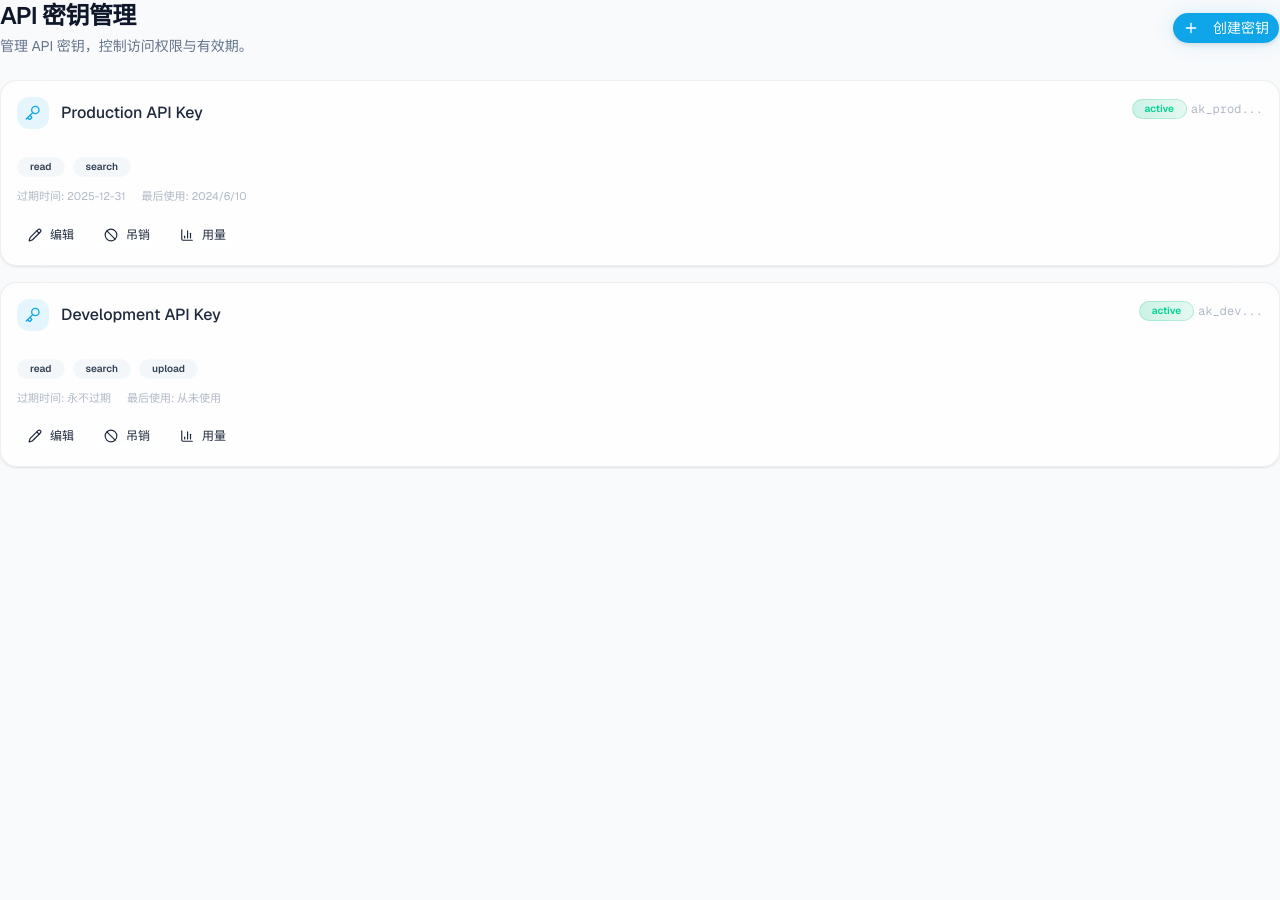
Scenario: ApiKeysPage › API Keys Page - Update › clicking edit opens edit modal
Expected: the text "Production API Key" is shown, [61,101,203,125]
Click the button "编辑" below "2025-12-31" at (51, 235), box [17,221,85,249]
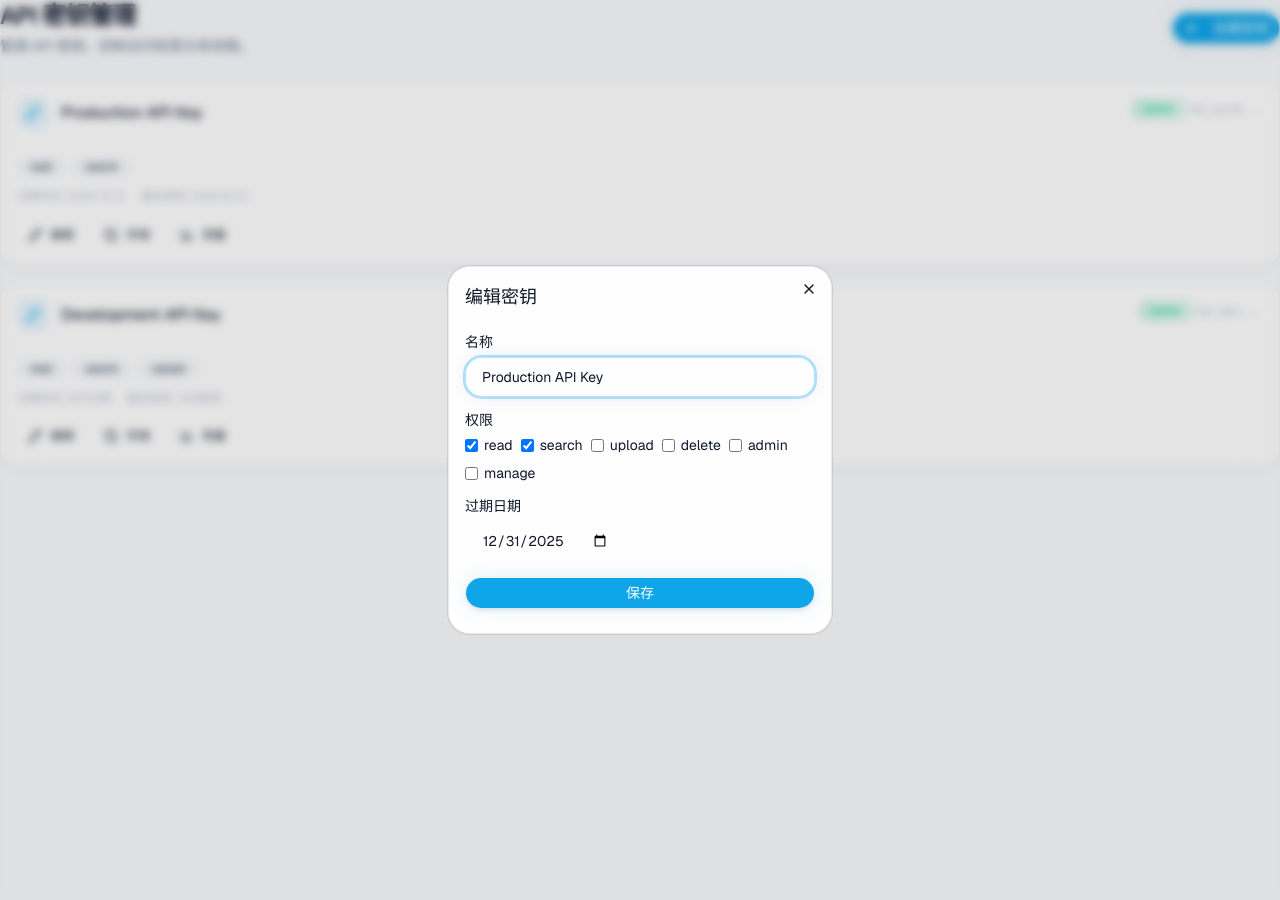
Result: the dialog with test id "edit-api-key-dialog" is shown at [448,266,832,634]
